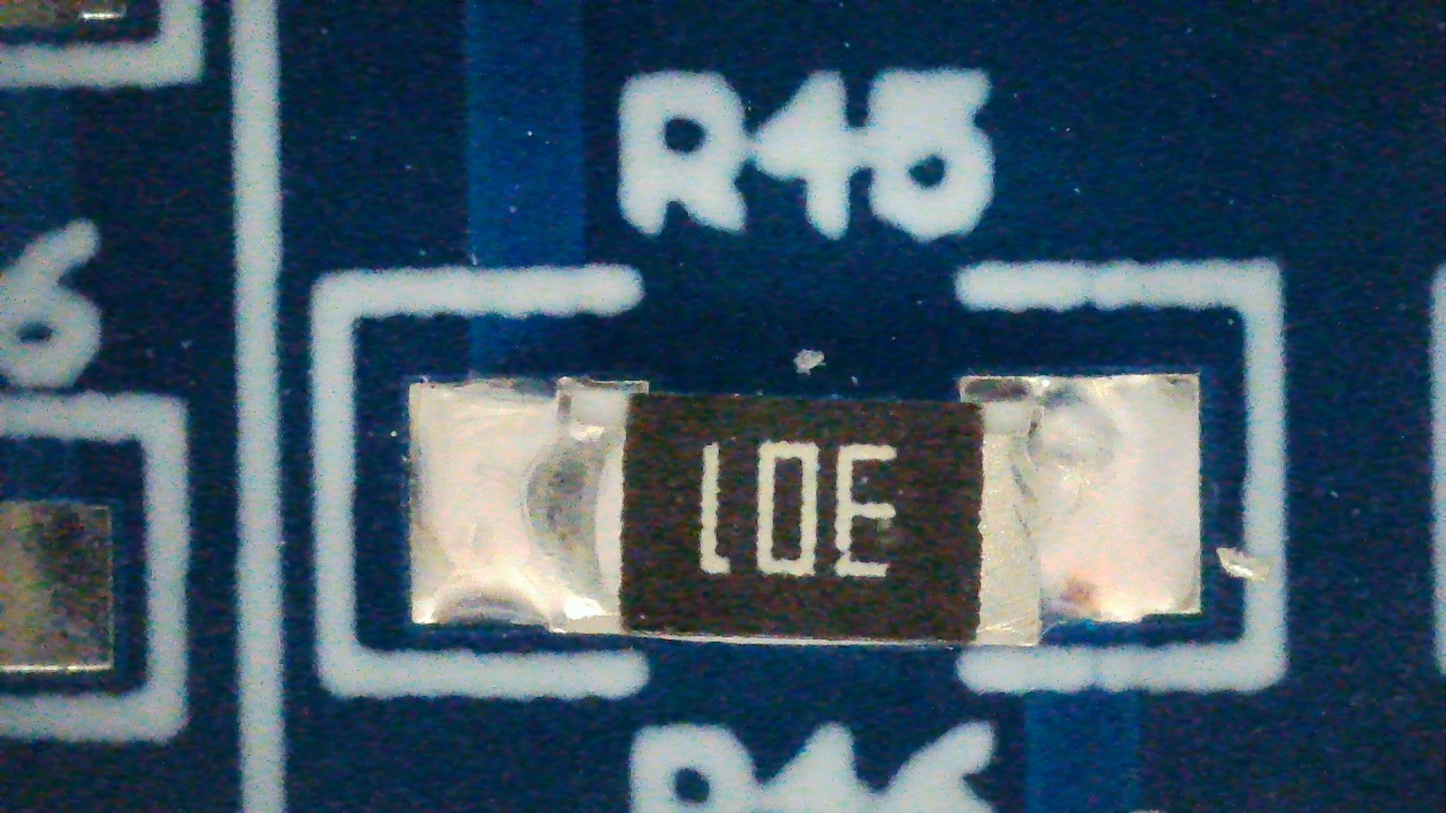NG: (408, 375, 1199, 644)
